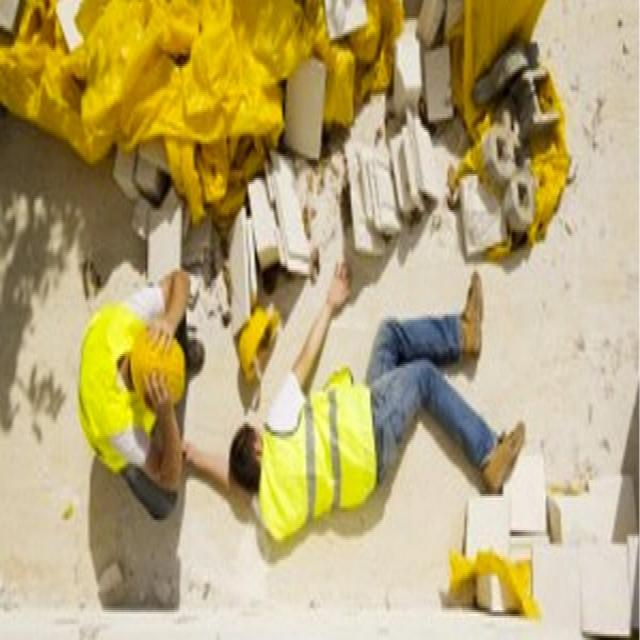Reflective-Jacket: (258, 370, 396, 552)
Safety-Helmet: (69, 282, 157, 482), (125, 319, 192, 409), (230, 304, 285, 386)
